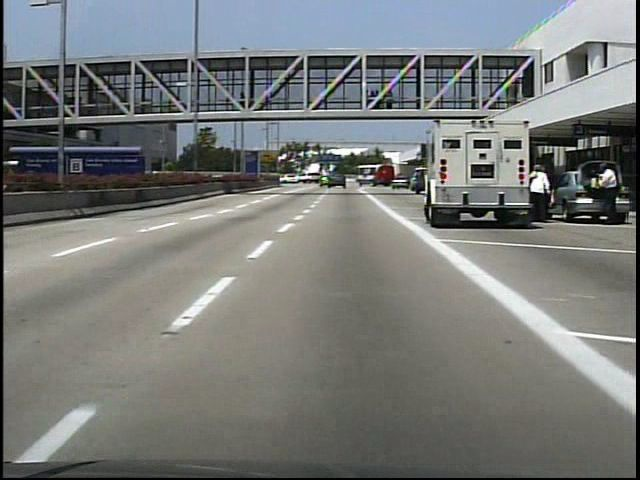person: (596, 162, 622, 229), (527, 158, 550, 226)
